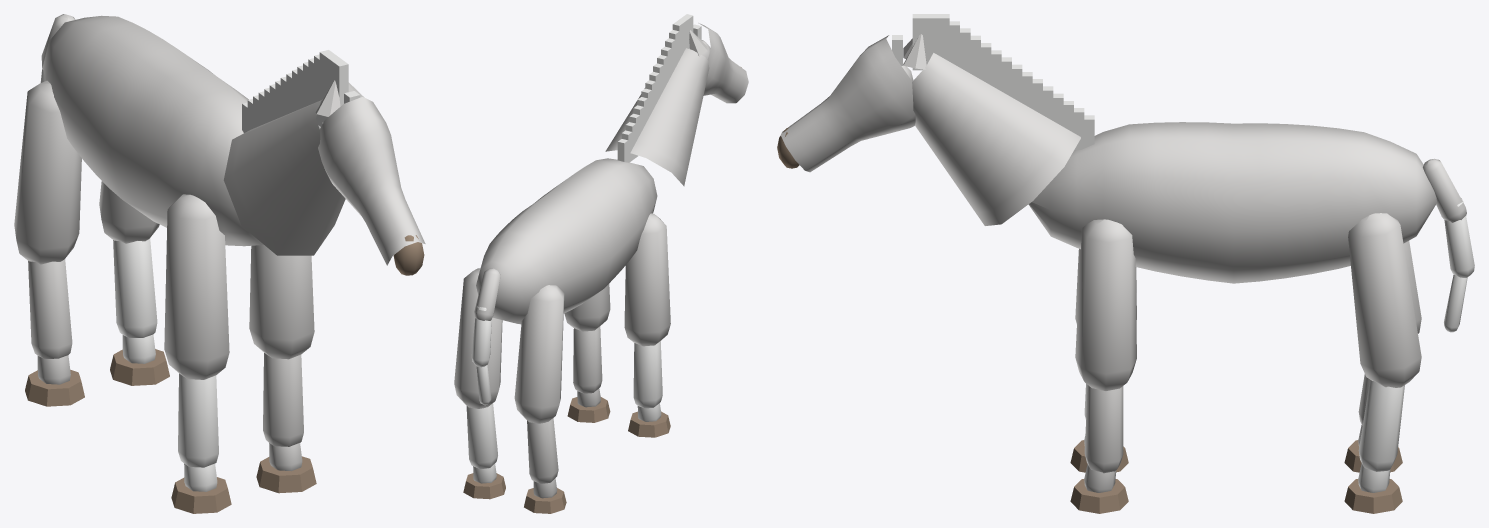
Rendered from draft-horse-standing-grey.glb.
3 renders of one model, left to right at view 1: azimuth 30°, elevation 25°; view 2: azimuth 150°, elevation 25°; view 3: azimuth 270°, elevation 25°, orthographic. The views are drawn at different scales.
Parts seen in each view (by area): view 1: draft-horse-standing-grey; view 2: draft-horse-standing-grey; view 3: draft-horse-standing-grey.
Part boxes in pixels (x1,y1,x2,y2): draft-horse-standing-grey: [14, 14, 425, 513]; draft-horse-standing-grey: [454, 14, 748, 513]; draft-horse-standing-grey: [777, 14, 1474, 513].
Size of the model in its own units: 0.7122 by 2.36 by 3.21.
